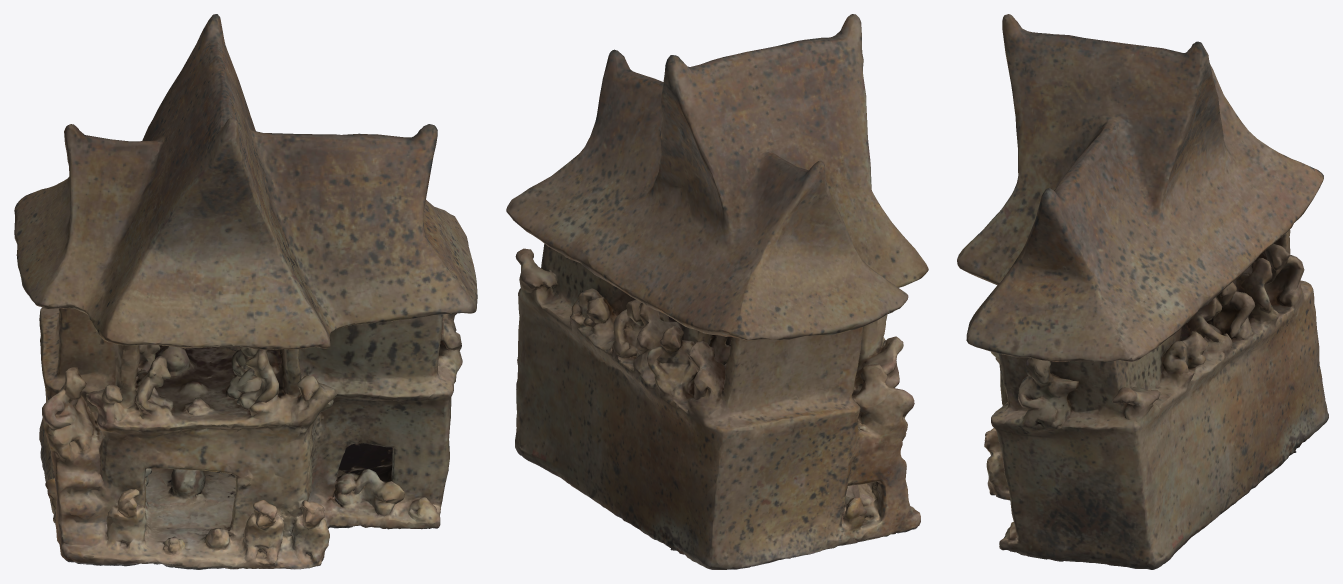
File: house_model_nayarit_2015_306.glb
3 views of the same model, side by side, from view 1: azimuth 30°, elevation 25°; view 2: azimuth 150°, elevation 25°; view 3: azimuth 270°, elevation 25° (orthographic). The views are drawn at different scales.
Parts seen in each view (by area): view 1: ADVIMG_2015_306_HouseModel_n3d; view 2: ADVIMG_2015_306_HouseModel_n3d; view 3: ADVIMG_2015_306_HouseModel_n3d.
Part boxes in pixels (bbox=[...]): ADVIMG_2015_306_HouseModel_n3d: bbox=[14, 14, 477, 569]; ADVIMG_2015_306_HouseModel_n3d: bbox=[506, 14, 928, 569]; ADVIMG_2015_306_HouseModel_n3d: bbox=[957, 14, 1328, 569].
Size of the model in its own units: 0.287 by 0.3152 by 0.2337.
1 material, 1 textured.
